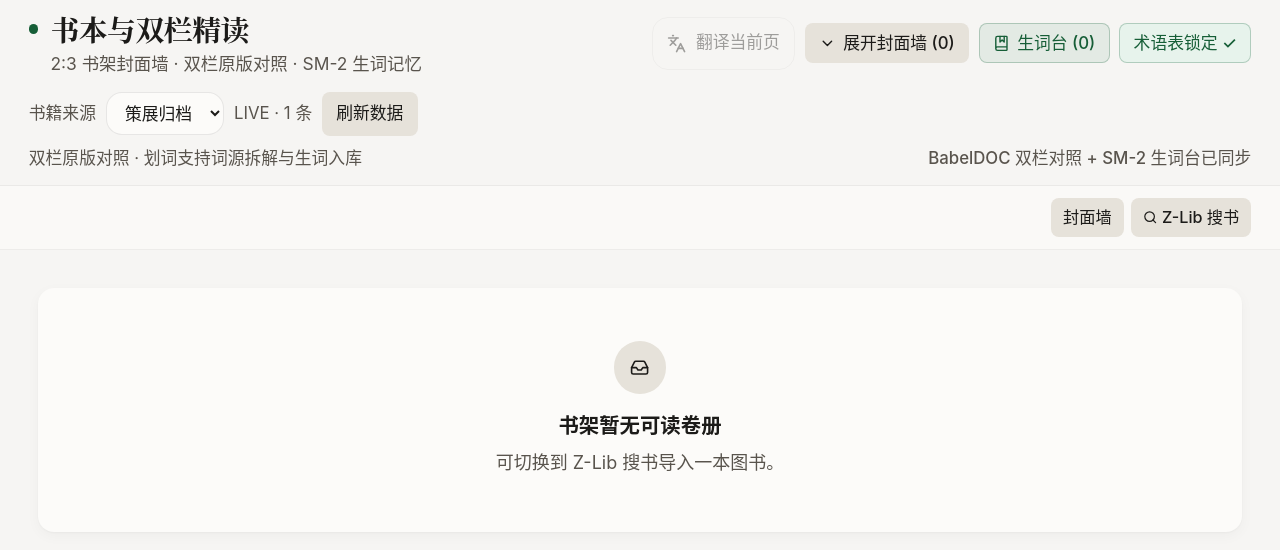
Test: live workbench data flow › switches book providers, including an empty shelf after a populated shelf
Expected: the text "LIVE · 1 条" is shown, [234, 101, 312, 126]
Select "实际来源" in the dropdown labelled "书籍来源": (165, 114) [106, 92, 224, 136]
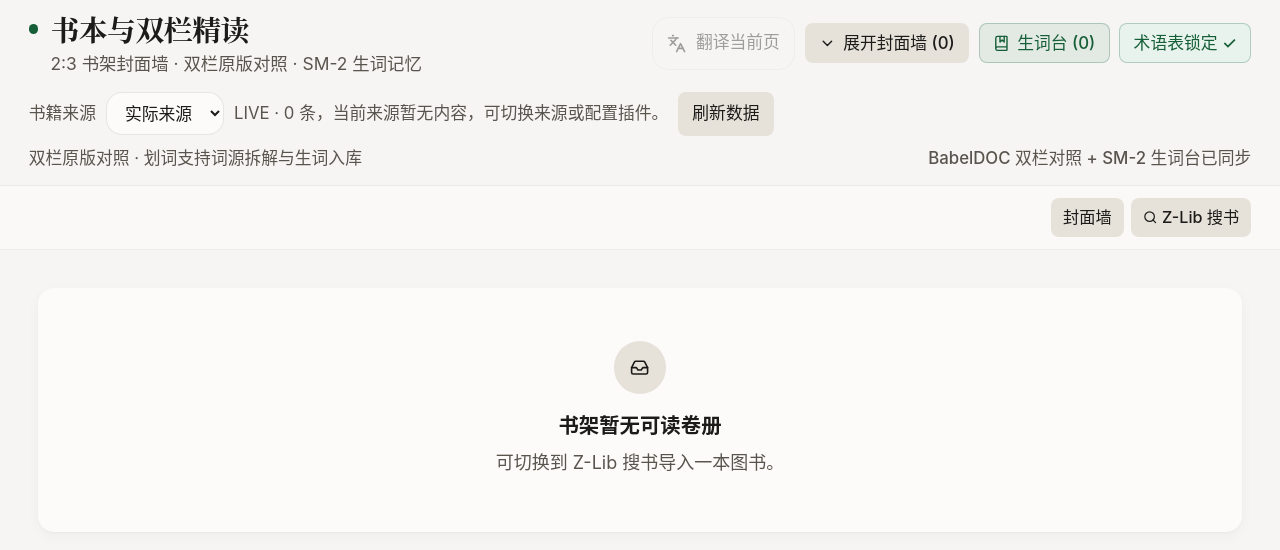
Expected: the text "LIVE · 0 条，当前来源暂无内容，可切换来源或配置插件。" is shown, [234, 101, 668, 126]
